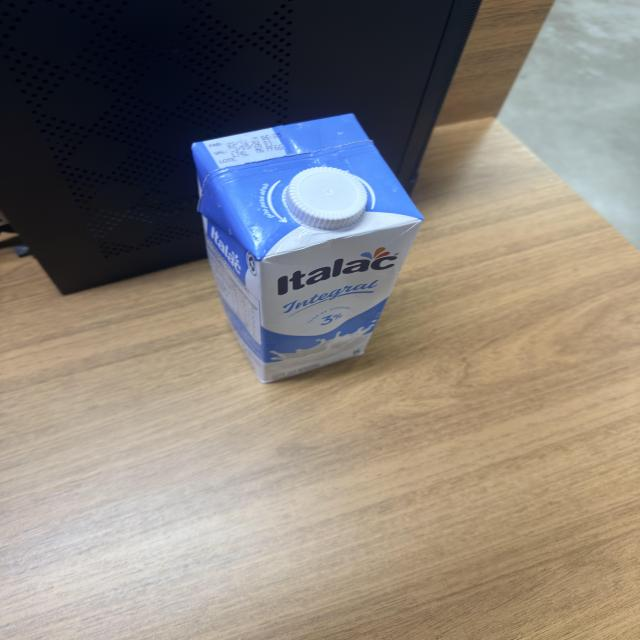Caixa de Leite: (190, 113, 423, 380)
